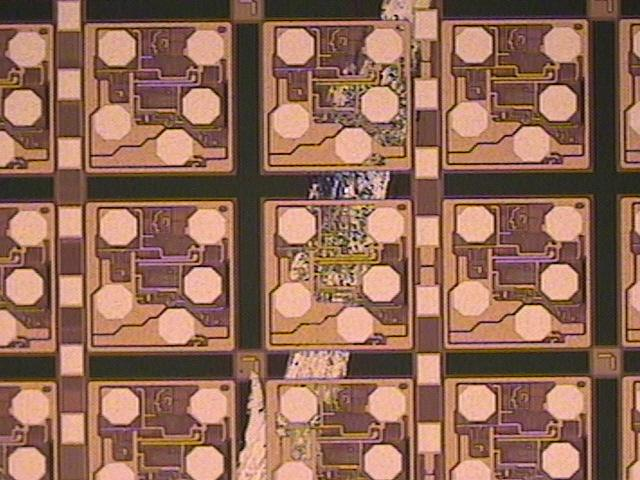BLOCK ETCH: (228, 1, 435, 480)
